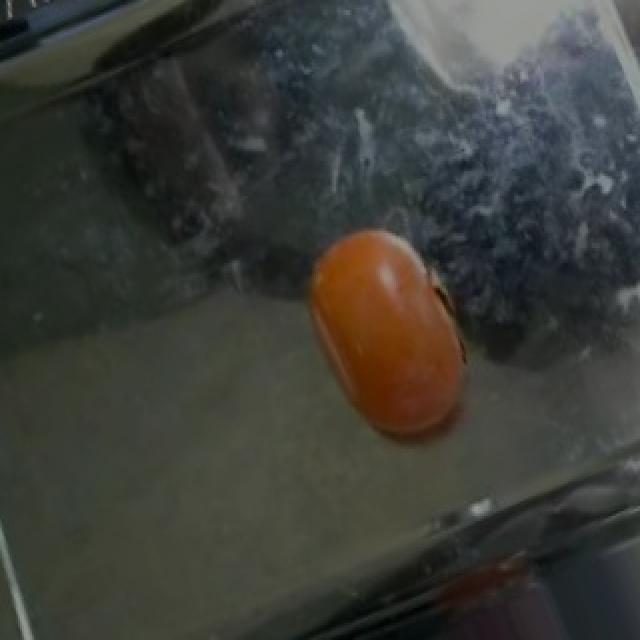Fruit: (288, 211, 492, 456)
